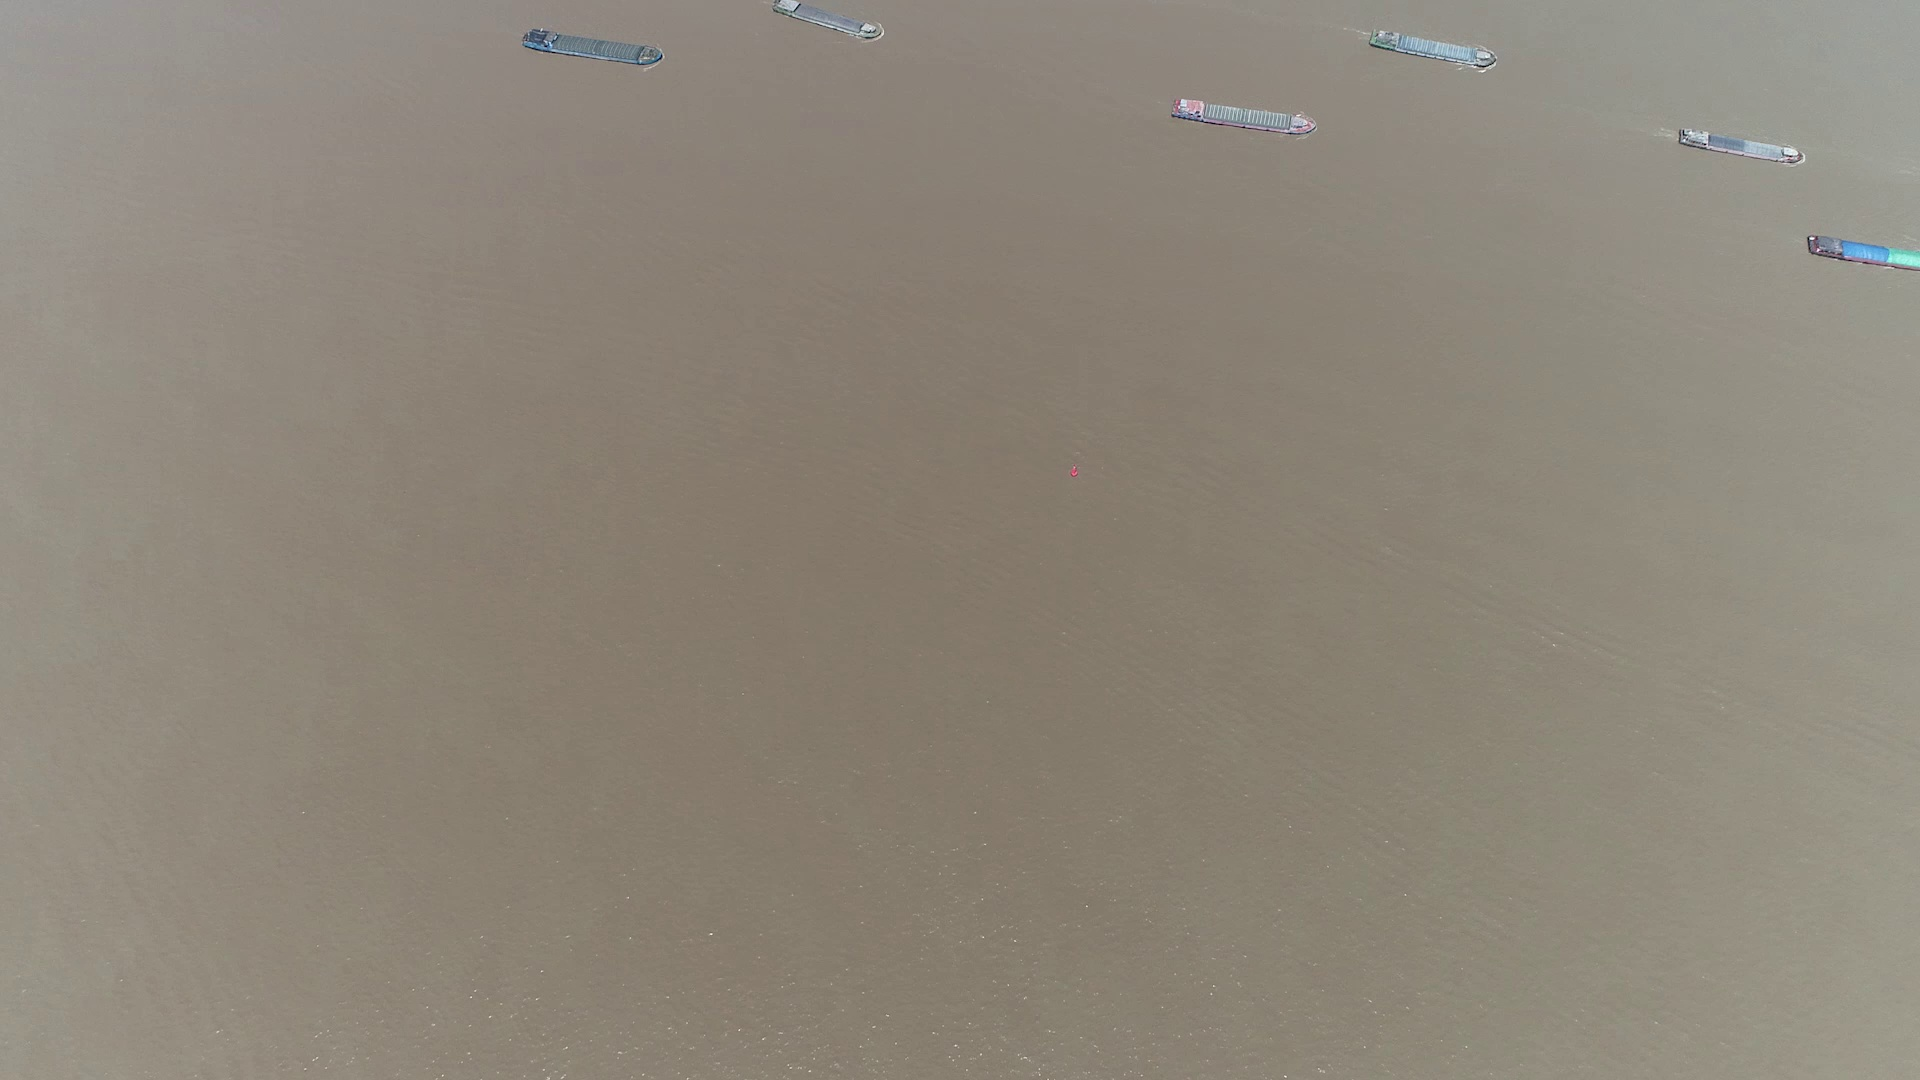ship: (521, 28, 663, 67), (1369, 28, 1498, 69), (1171, 98, 1313, 135), (774, 0, 884, 42), (1807, 232, 1920, 272), (1679, 129, 1803, 162)
